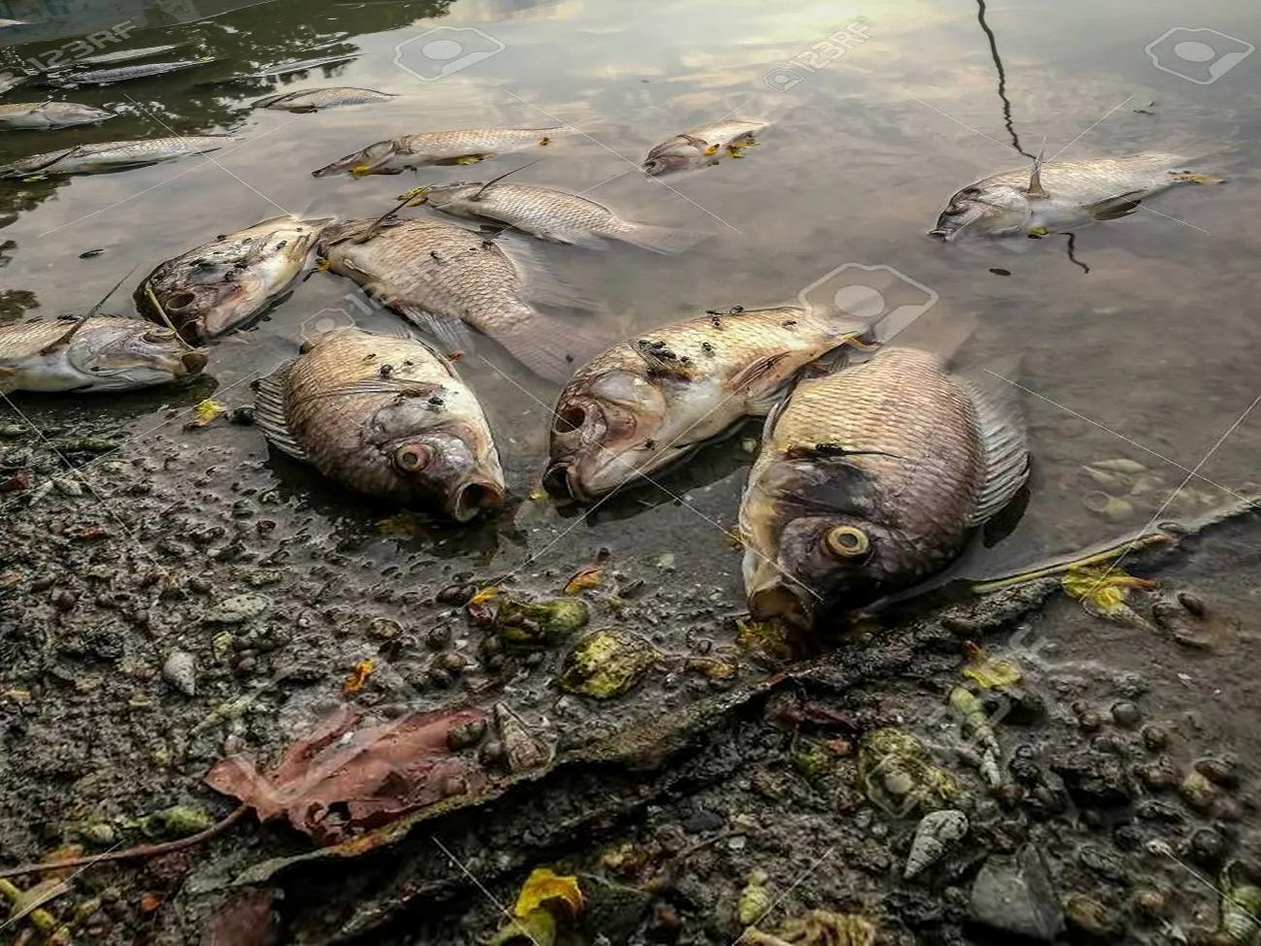Dead Animals Pollution: (55, 84, 1201, 623)
